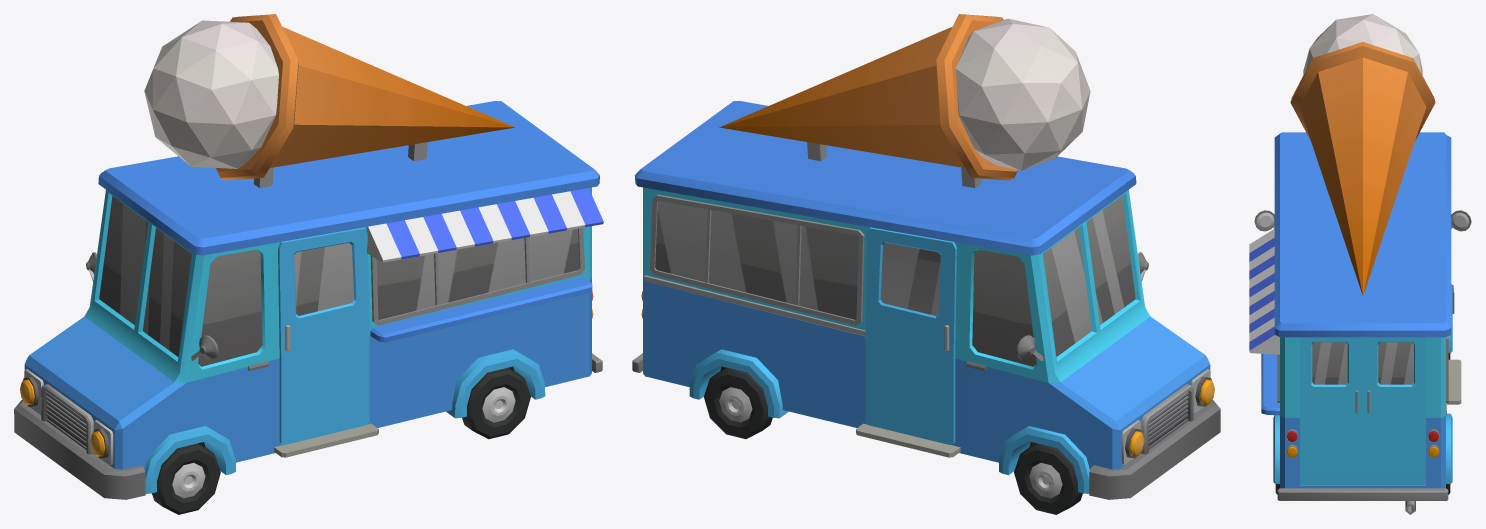
The model's file is IceTruck_2_F.fbx.
3 views of the same model, side by side, from view 1: azimuth 30°, elevation 25°; view 2: azimuth 150°, elevation 25°; view 3: azimuth 270°, elevation 25° (orthographic). The views are drawn at different scales.
Visible parts, largest first — view 1: IceTruck_2_F, RL, FL; view 2: IceTruck_2_F, FR, RR; view 3: IceTruck_2_F.
Part boxes in pixels (bbox=[...]): IceTruck_2_F: bbox=[14, 14, 603, 499]; RL: bbox=[462, 367, 530, 439]; FL: bbox=[152, 443, 220, 514]; IceTruck_2_F: bbox=[632, 14, 1220, 499]; FR: bbox=[1014, 443, 1082, 514]; RR: bbox=[704, 368, 772, 438]; IceTruck_2_F: bbox=[1249, 14, 1471, 514].
Size of the model in its own units: 416 by 343 by 184.
